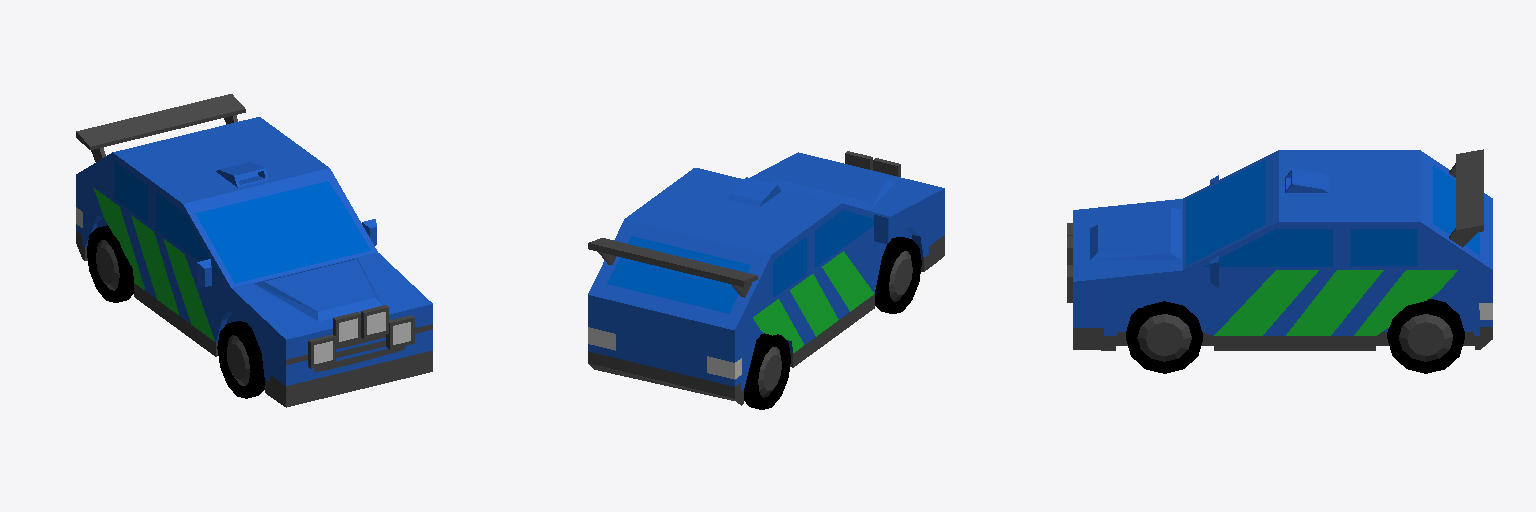
File: Vehicle_01.obj
3 views of the same model, side by side, from view 1: azimuth 30°, elevation 25°; view 2: azimuth 150°, elevation 25°; view 3: azimuth 270°, elevation 25° (orthographic).
Visible parts, largest first — view 1: SR_Veh_RalleyCar_Black; view 2: SR_Veh_RalleyCar_Black; view 3: SR_Veh_RalleyCar_Black.
Boxes of the visible parts, x1,y1,x2,y2 form: SR_Veh_RalleyCar_Black: [76, 94, 432, 407]; SR_Veh_RalleyCar_Black: [588, 151, 944, 409]; SR_Veh_RalleyCar_Black: [1067, 149, 1492, 373].
Bounding box in the file's own units: 0.1584 × 0.1345 × 0.3271.